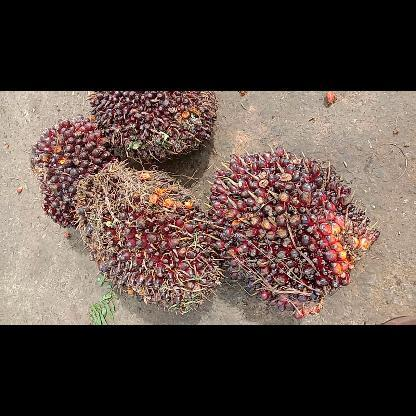Kurang masak: (203, 145, 379, 318), (89, 168, 225, 312), (30, 119, 122, 227), (89, 91, 218, 163)
